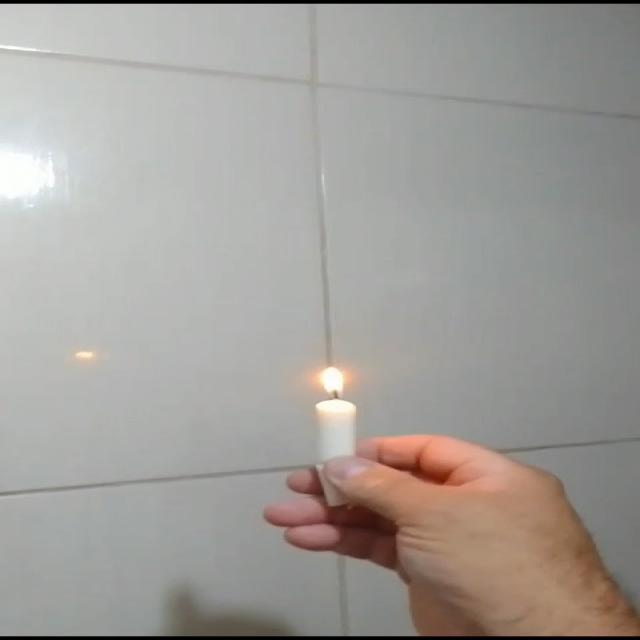fogo-ypXI: (314, 364, 353, 400)
